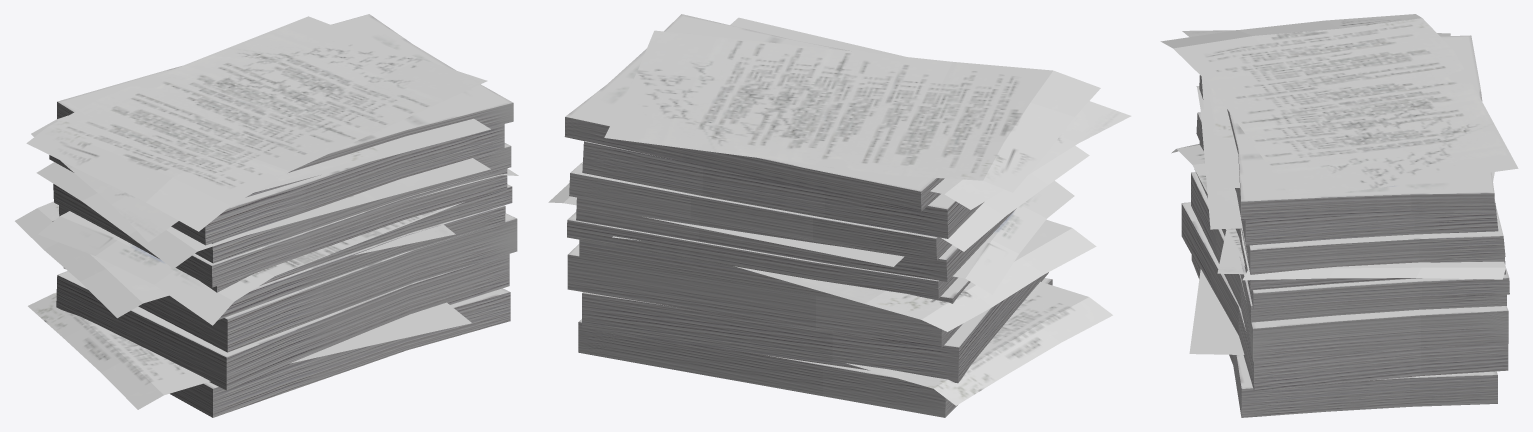
File: PaperStack.fbx
3 renders of one model, left to right at view 1: azimuth 30°, elevation 25°; view 2: azimuth 150°, elevation 25°; view 3: azimuth 270°, elevation 25°, orthographic. The views are drawn at different scales.
Visible parts, largest first — view 1: PaperStack; view 2: PaperStack; view 3: PaperStack.
Boxes of the visible parts, left/top/right/bottom form: PaperStack: left=15, top=14, right=518, bottom=417; PaperStack: left=548, top=14, right=1131, bottom=417; PaperStack: left=1160, top=14, right=1518, bottom=417.
Size of the model in its own units: 54.93 by 28.32 by 41.67.
